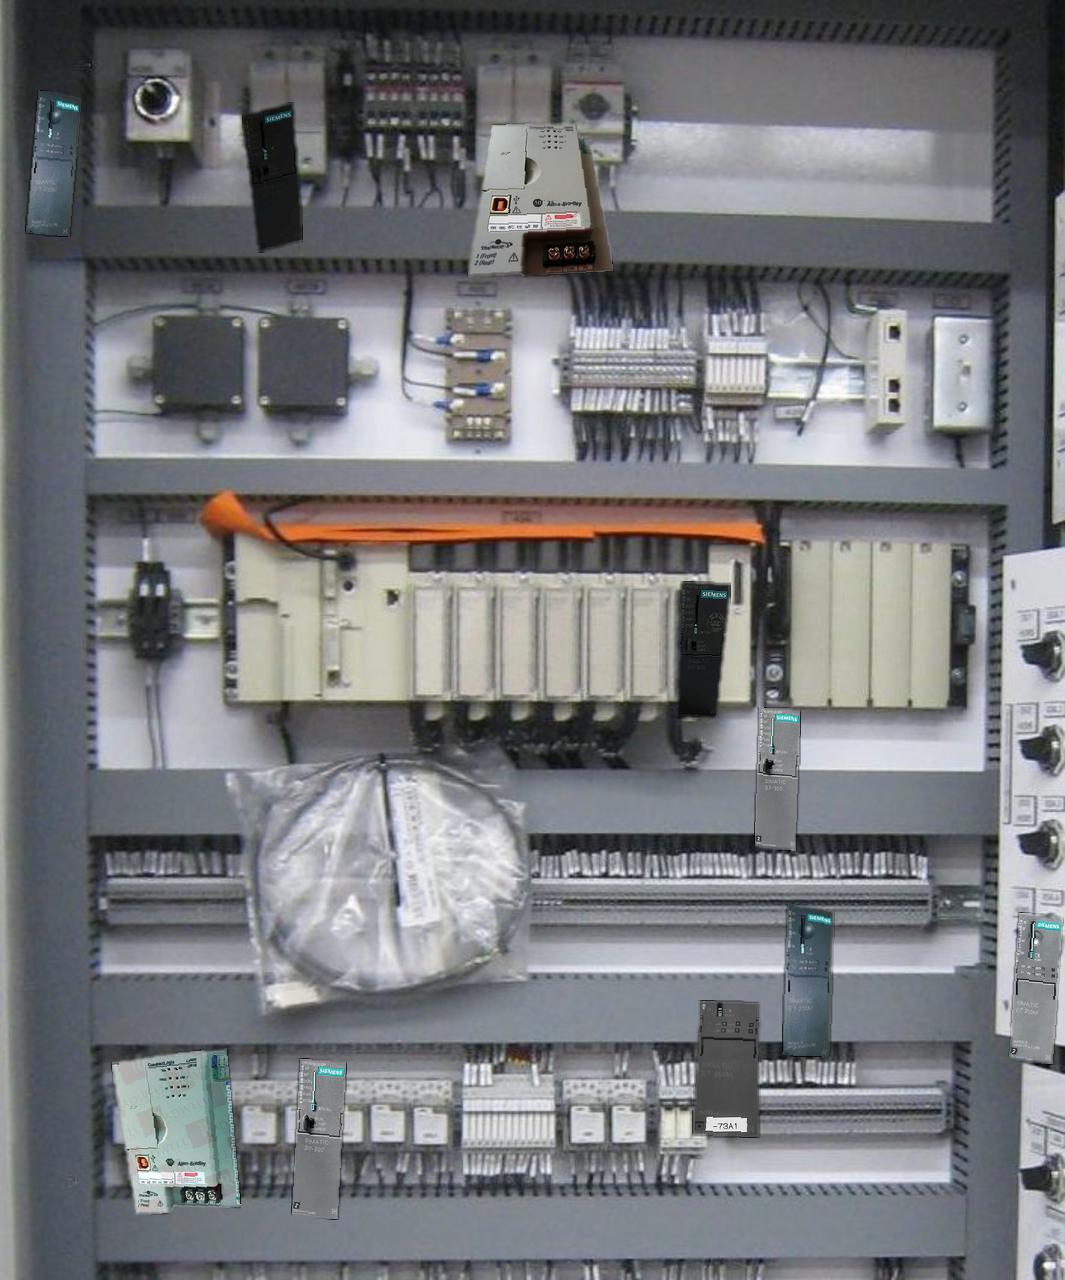AllenBradley: (468, 124, 612, 275), (112, 1050, 240, 1213)
Siemens: (243, 103, 301, 251), (292, 1059, 345, 1218), (677, 582, 730, 717), (755, 707, 799, 850)
